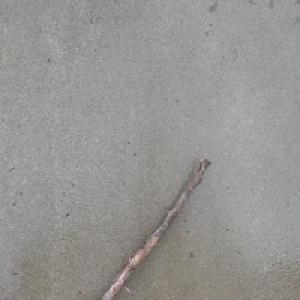Wood: (97, 157, 212, 300)
